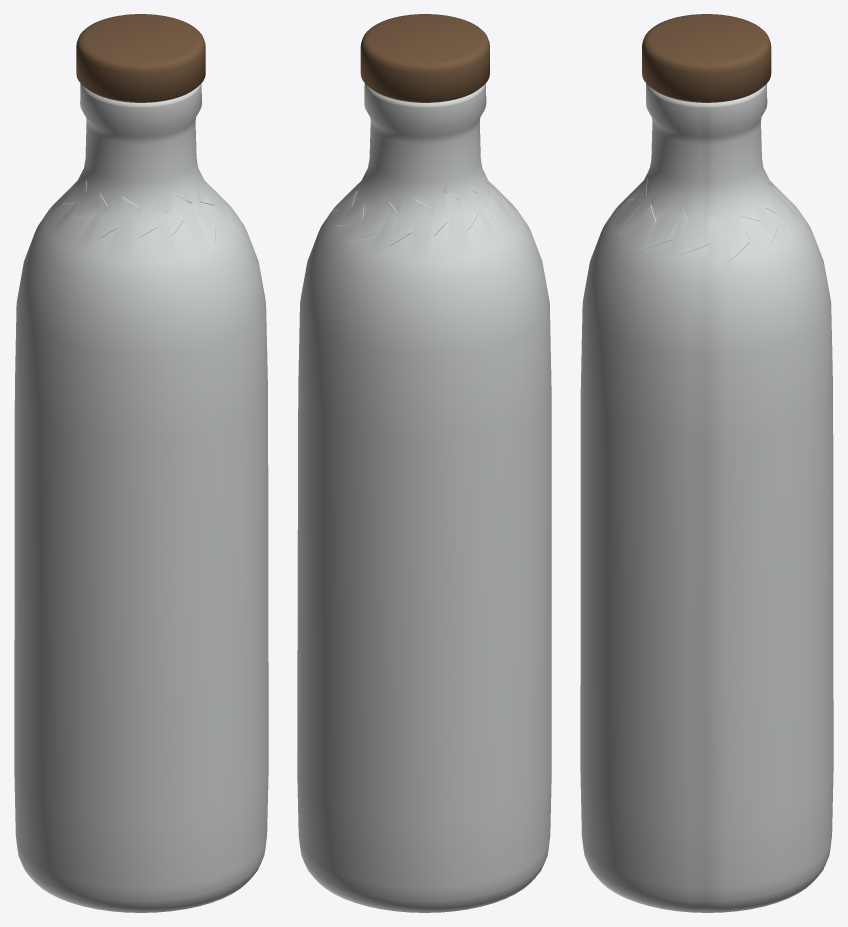
File: bottle_whisky_broken.glb
The picture shows the model from 3 angles, left to right: view 1: azimuth 30°, elevation 25°; view 2: azimuth 150°, elevation 25°; view 3: azimuth 270°, elevation 25°; orthographic projection.
Visible parts, largest first — view 1: Glass.001, Neck, Cap; view 2: Glass.001, Neck, Cap; view 3: Glass.001, Neck, Cap.
Part boxes in pixels (<box>): Glass.001: <box>14,169,268,912</box>; Neck: <box>63,83,233,242</box>; Cap: <box>76,14,205,102</box>; Glass.001: <box>297,181,551,912</box>; Neck: <box>333,83,508,245</box>; Cap: <box>360,14,489,102</box>; Glass.001: <box>580,178,833,912</box>; Neck: <box>620,83,792,259</box>; Cap: <box>642,14,771,102</box>.
Bounding box in the file's own units: 0.0769 × 0.2765 × 0.0765.
